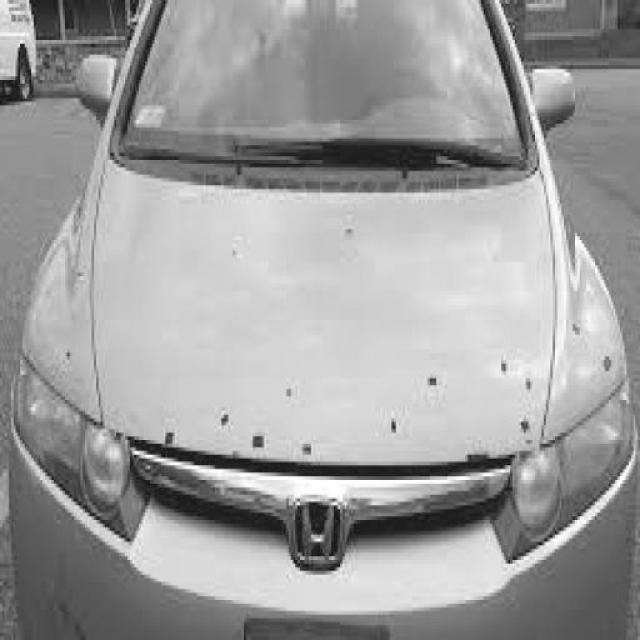car damage: (151, 311, 621, 465)
